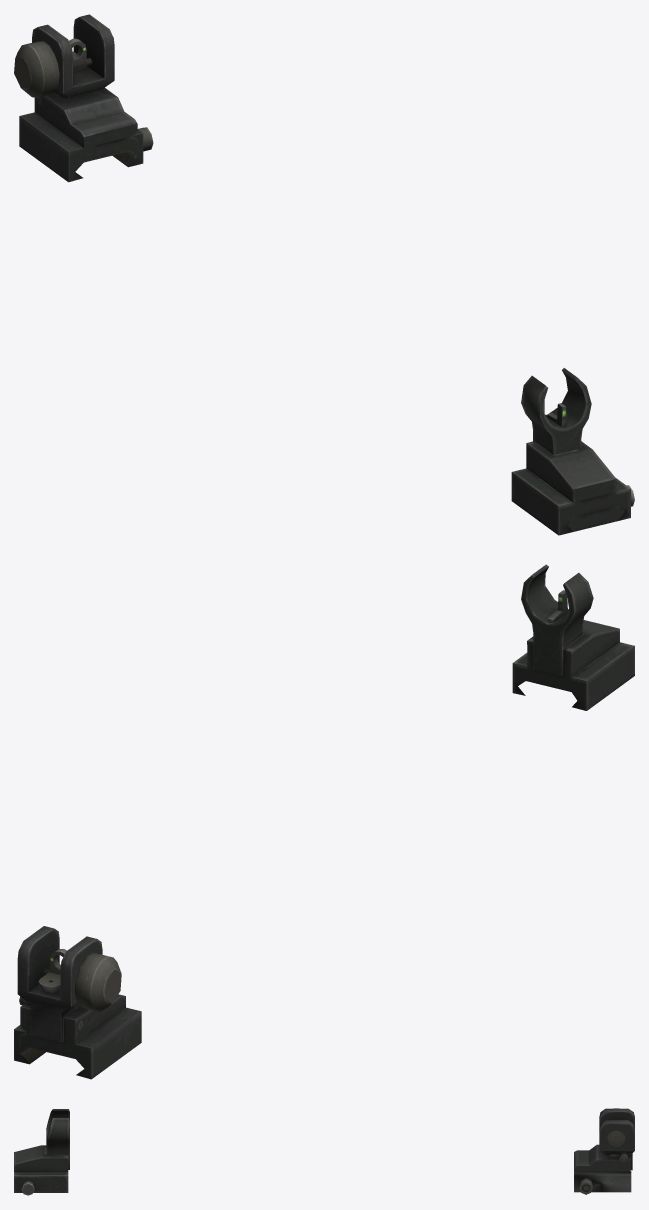
Rendered from Assault_Rifle_bq_mj_01_lod2_Scope_LOD_(000292).glb.
3 views of the same model, one above another, from view 1: azimuth 30°, elevation 25°; view 2: azimuth 150°, elevation 25°; view 3: azimuth 270°, elevation 25° (orthographic). The views are drawn at different scales.
Parts seen in each view (by area): view 1: bq_mj_01_lod2; view 2: bq_mj_01_lod2; view 3: bq_mj_01_lod2.
Boxes of the visible parts, x1,y1,x2,y2 form: bq_mj_01_lod2: (14, 14, 634, 535); bq_mj_01_lod2: (14, 564, 634, 1079); bq_mj_01_lod2: (14, 1108, 634, 1195).
Bounding box in the file's own units: 0.0679 × 0.0797 × 0.6424.
Materials: 2 (2 with a texture image).
